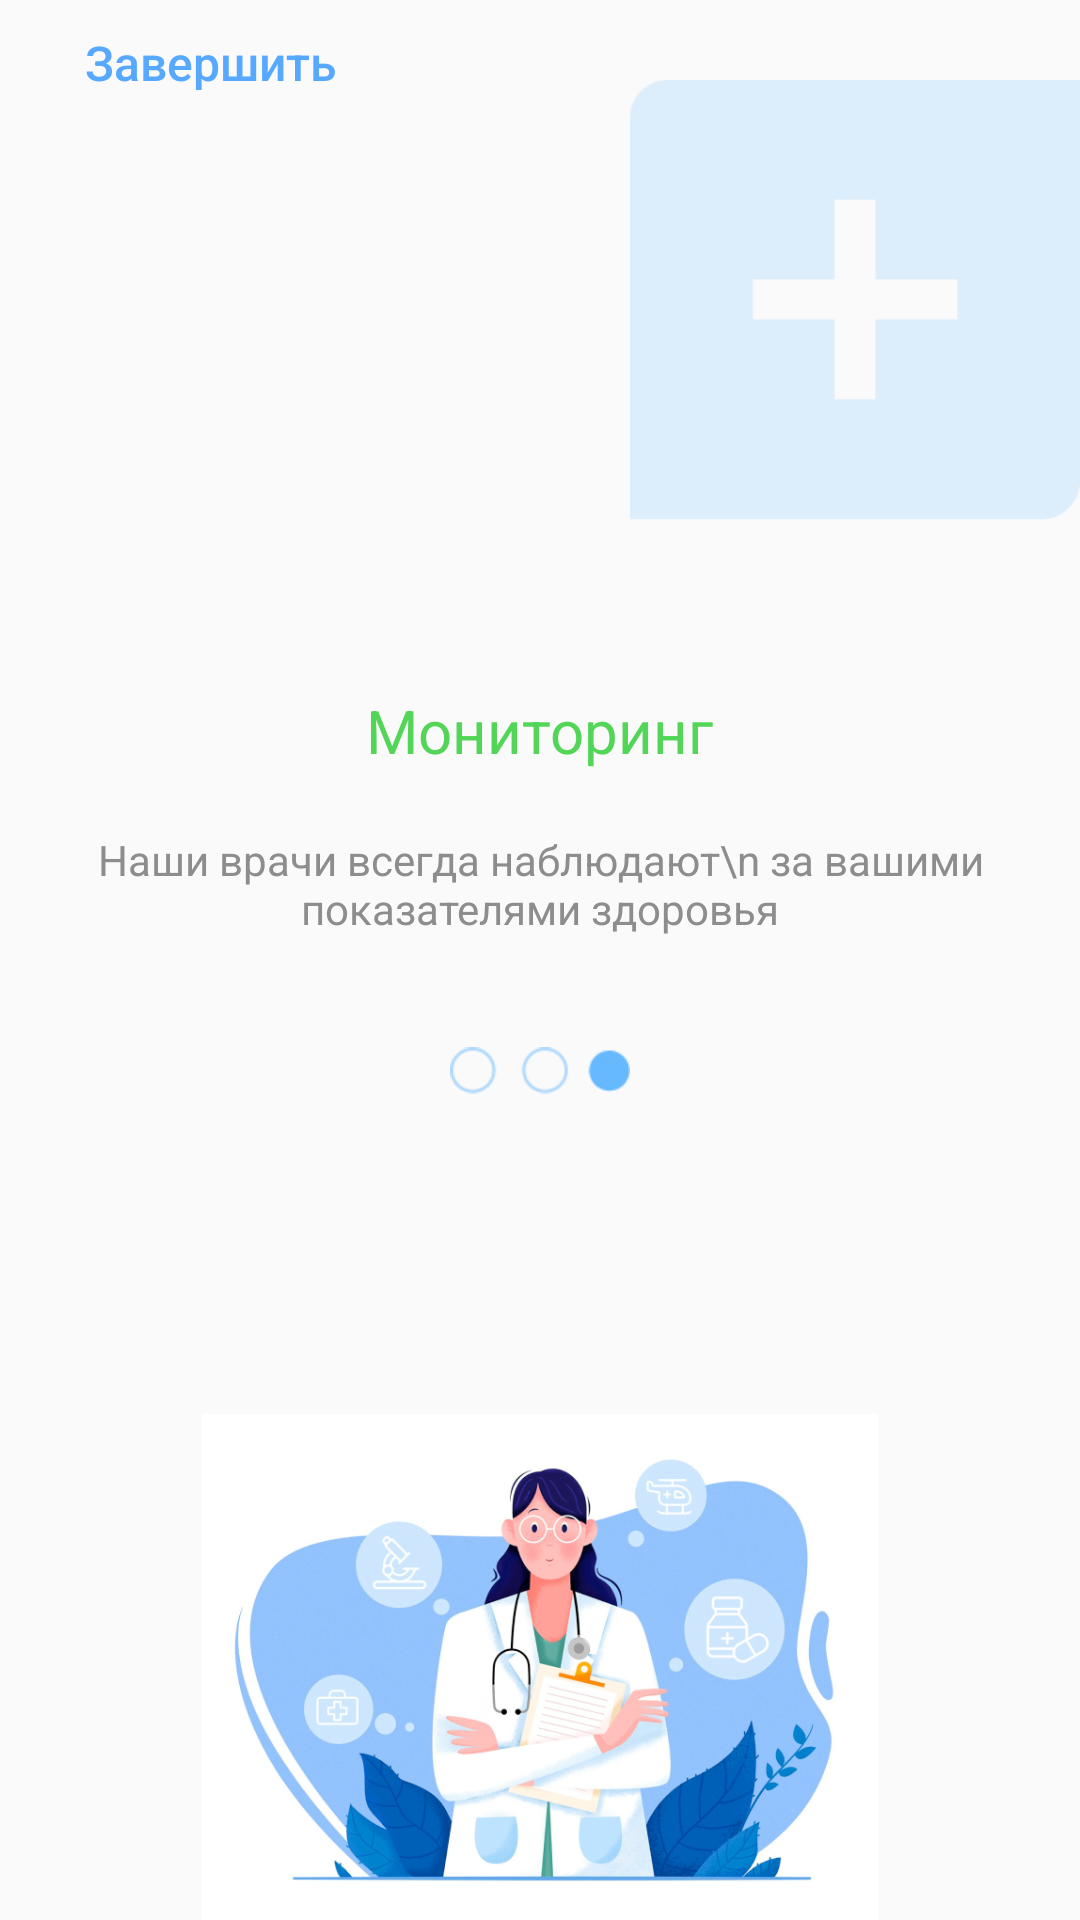

Named icons in this screenshot (1080px×1920px) and their bounding boxes, (x1, y1, x2, y2):
tochki: (450, 1047, 630, 1094)
